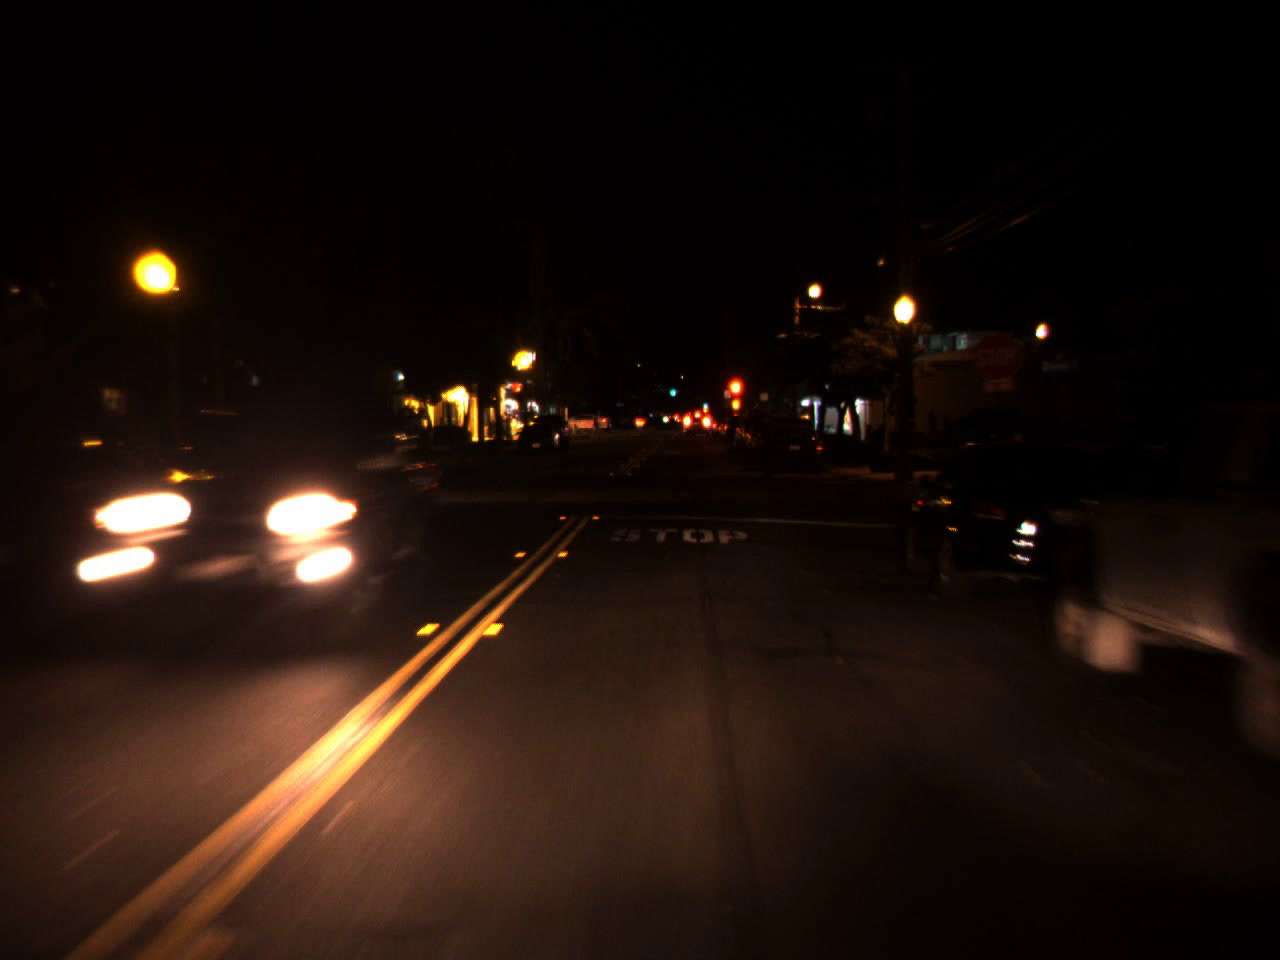go: (667, 382, 676, 397), (701, 396, 708, 408)
stop: (724, 374, 748, 414), (508, 381, 523, 408)
